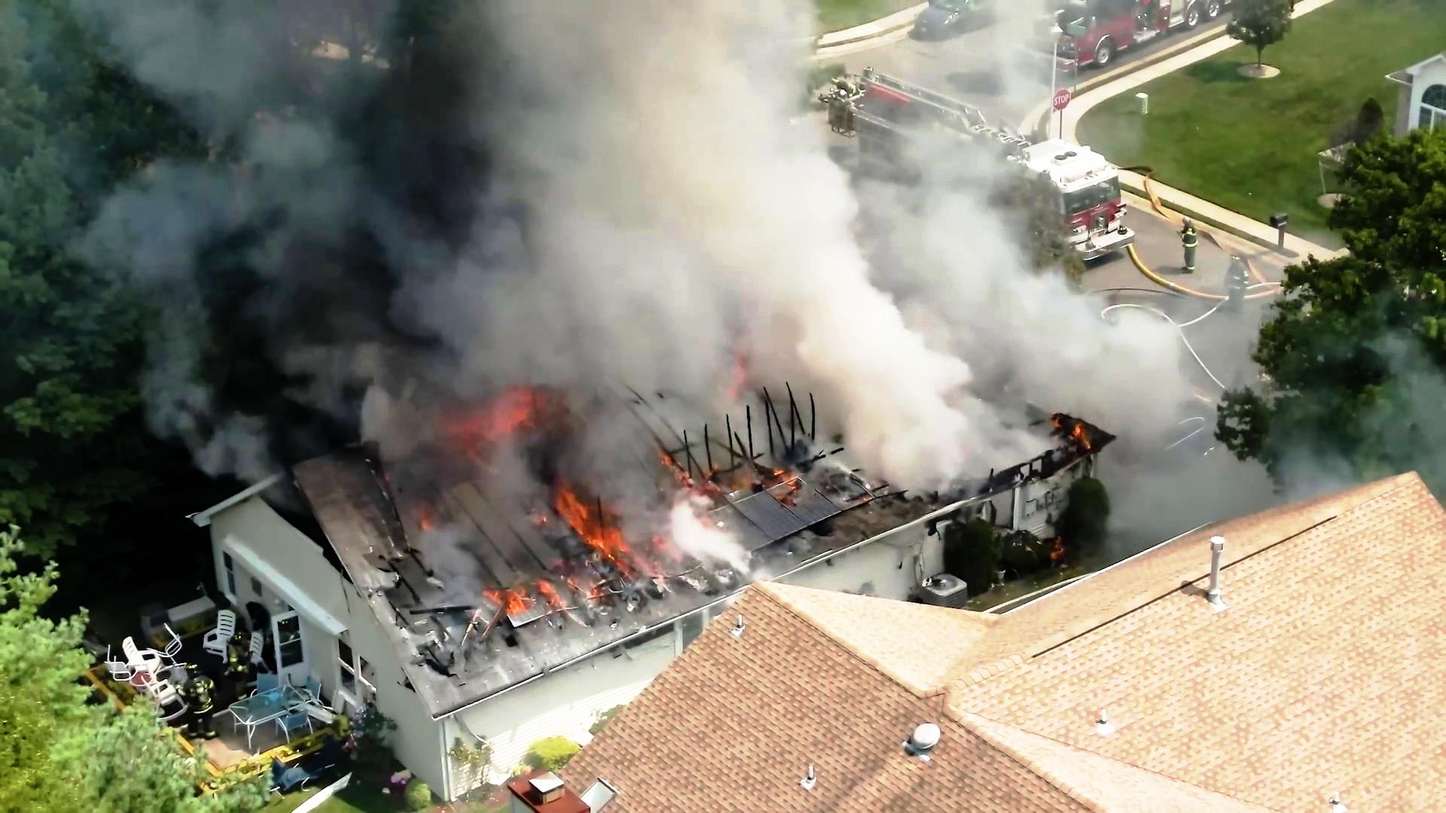smoke: (482, 0, 811, 326), (855, 283, 987, 487)
